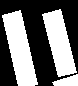parkingspot: (2, 10, 37, 86), (42, 9, 76, 76), (52, 74, 78, 86)
